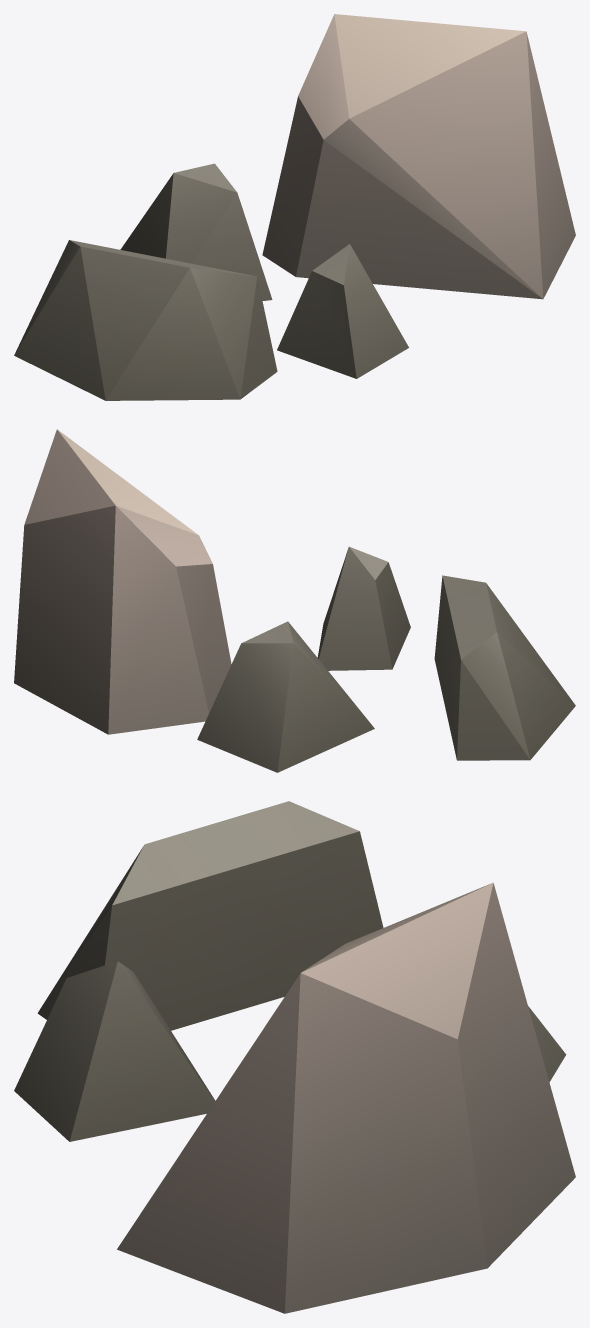
Rendered from Rock_Cluster_1E.fbx.
The picture shows the model from 3 angles, top to bottom: view 1: azimuth 30°, elevation 25°; view 2: azimuth 150°, elevation 25°; view 3: azimuth 270°, elevation 25°; orthographic projection. The views are drawn at different scales.
Parts seen in each view (by area): view 1: Rock_Cluster_1E; view 2: Rock_Cluster_1E; view 3: Rock_Cluster_1E.
Boxes of the visible parts, box(x1,y1,x2,y2) form: Rock_Cluster_1E: box(14, 14, 575, 400); Rock_Cluster_1E: box(14, 429, 575, 772); Rock_Cluster_1E: box(14, 801, 575, 1313).
Size of the model in its own units: 228 by 84.57 by 139.
